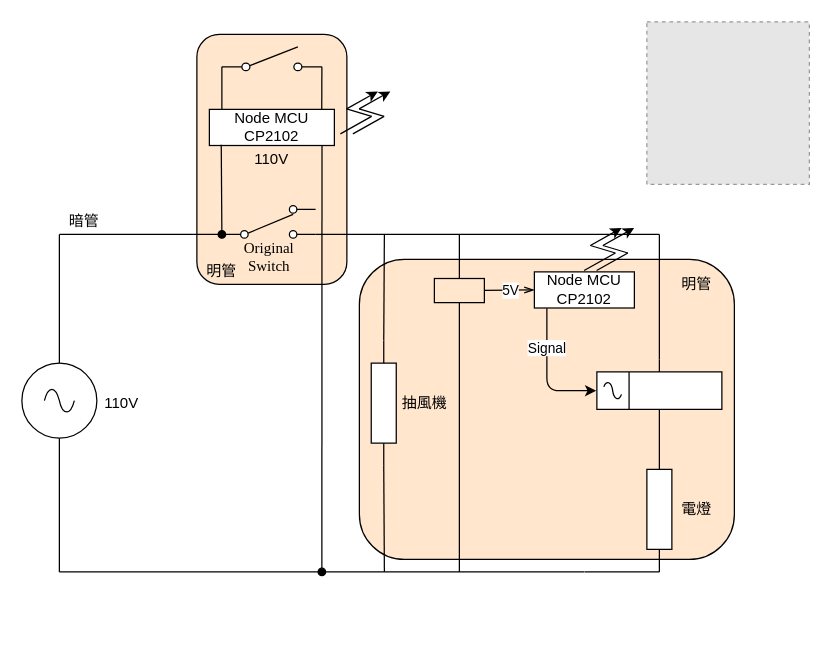
This 831x661 diagram has some shape labels left out. Grey dashed boxes stand in for pictures. The shapes that lost their labels are listed below. From the top down, each one's centre as x and y in pixels, then its label:
At point (458, 290): "插頭".
At point (659, 390): "Relay".
